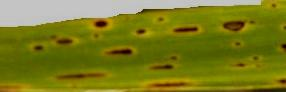0 BrownSpot: (216, 18, 261, 33), (50, 69, 111, 80), (144, 79, 199, 91), (101, 44, 136, 59), (86, 15, 114, 33), (146, 60, 182, 72), (172, 24, 205, 35), (131, 20, 150, 39), (1, 80, 27, 92), (56, 37, 79, 47), (166, 49, 181, 63), (28, 40, 44, 52), (230, 39, 248, 48), (153, 14, 165, 26), (275, 40, 285, 52), (249, 52, 262, 61), (234, 60, 246, 69), (277, 76, 286, 87), (279, 22, 286, 34), (270, 2, 278, 9)
